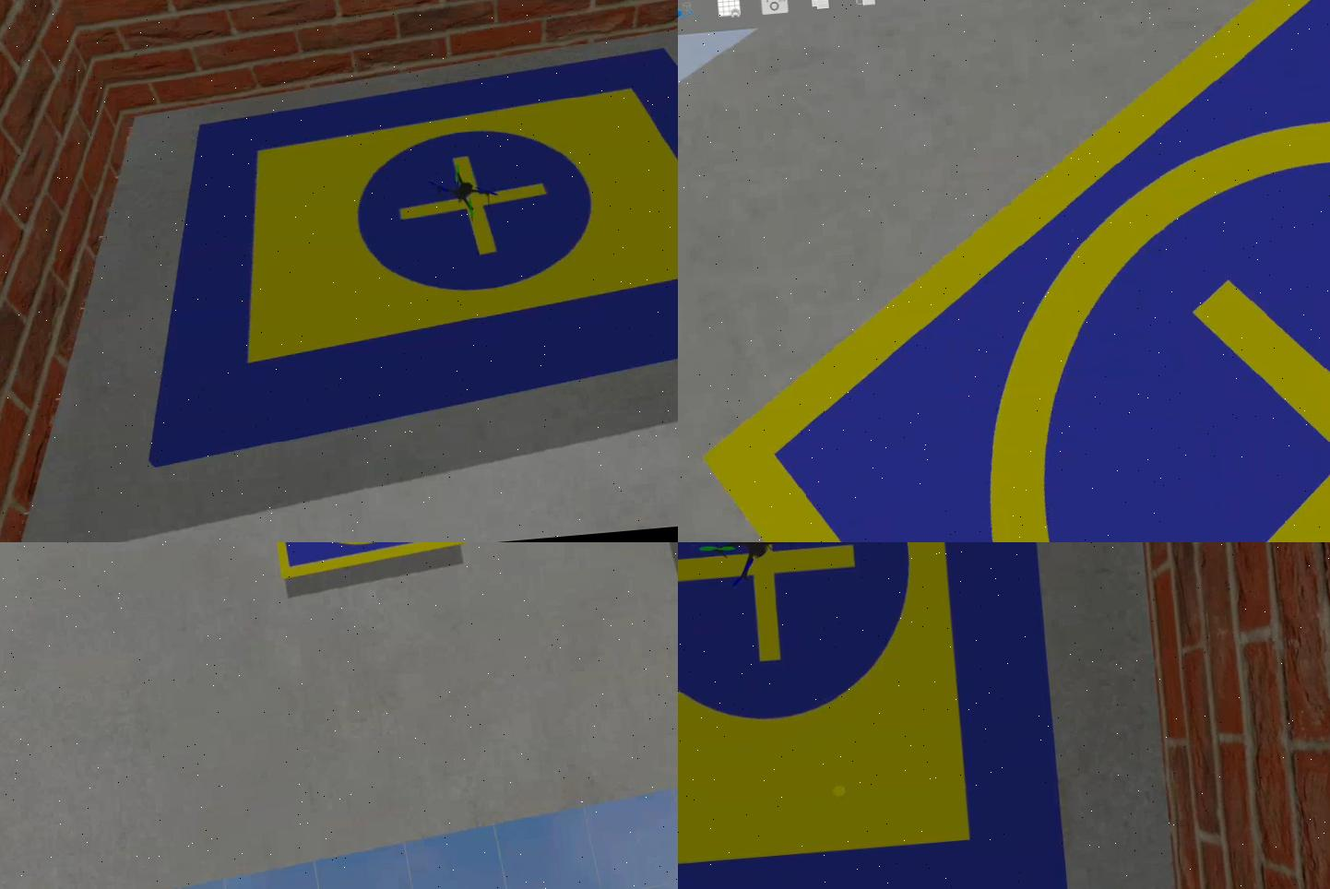large_base: (117, 30, 679, 462), (679, 543, 1073, 889)
small_base: (679, 1, 1330, 543), (254, 543, 469, 587)
